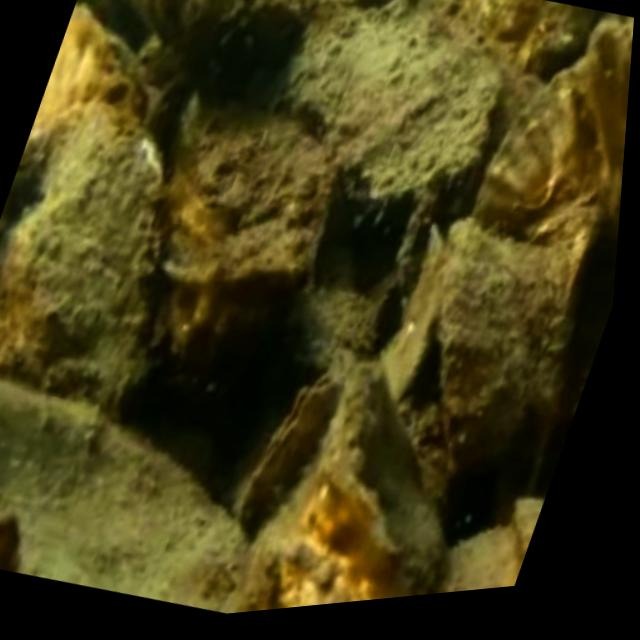Oyster-Closed: (240, 370, 342, 534)
Oyster-Indeterminate: (0, 383, 249, 614), (0, 106, 164, 413), (431, 227, 618, 474), (280, 7, 500, 199), (156, 93, 336, 286), (16, 8, 159, 171), (473, 58, 602, 228), (114, 0, 316, 80), (582, 20, 633, 240), (437, 525, 521, 593), (513, 500, 544, 549)
